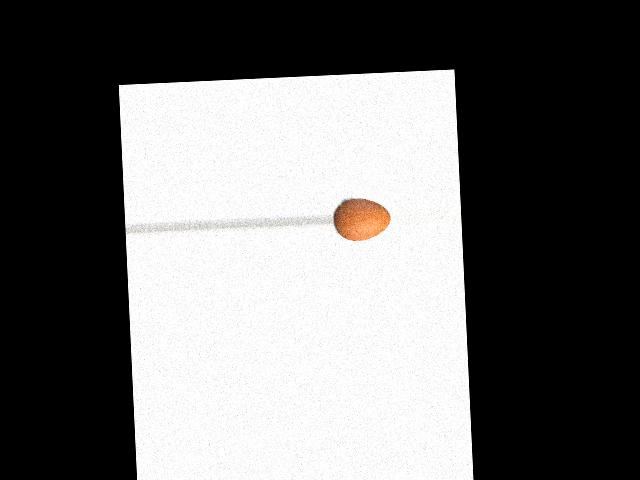egg: (332, 196, 390, 241)
